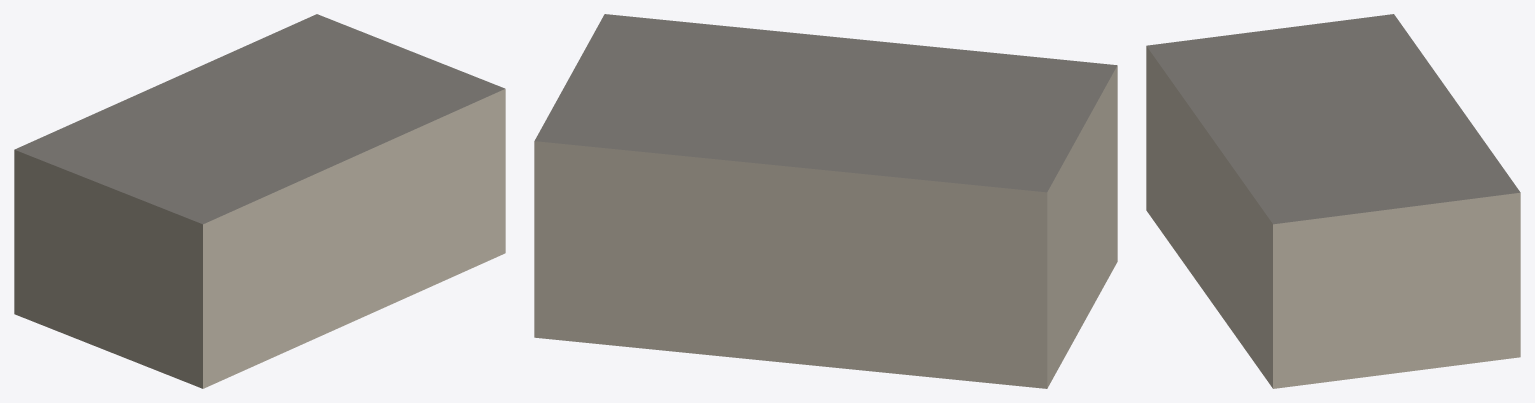
3 views of the same model, side by side, from view 1: azimuth 30°, elevation 25°; view 2: azimuth 150°, elevation 25°; view 3: azimuth 270°, elevation 25° (orthographic). The views are drawn at different scales.
Parts seen in each view (by area): view 1: HP-w372180454; view 2: HP-w372180454; view 3: HP-w372180454.
Part boxes in pixels (<box>): HP-w372180454: <box>14,14,505,388</box>; HP-w372180454: <box>534,14,1117,388</box>; HP-w372180454: <box>1146,14,1520,388</box>.
Bounding box in the file's own units: 32.88 × 12 × 24.74.
